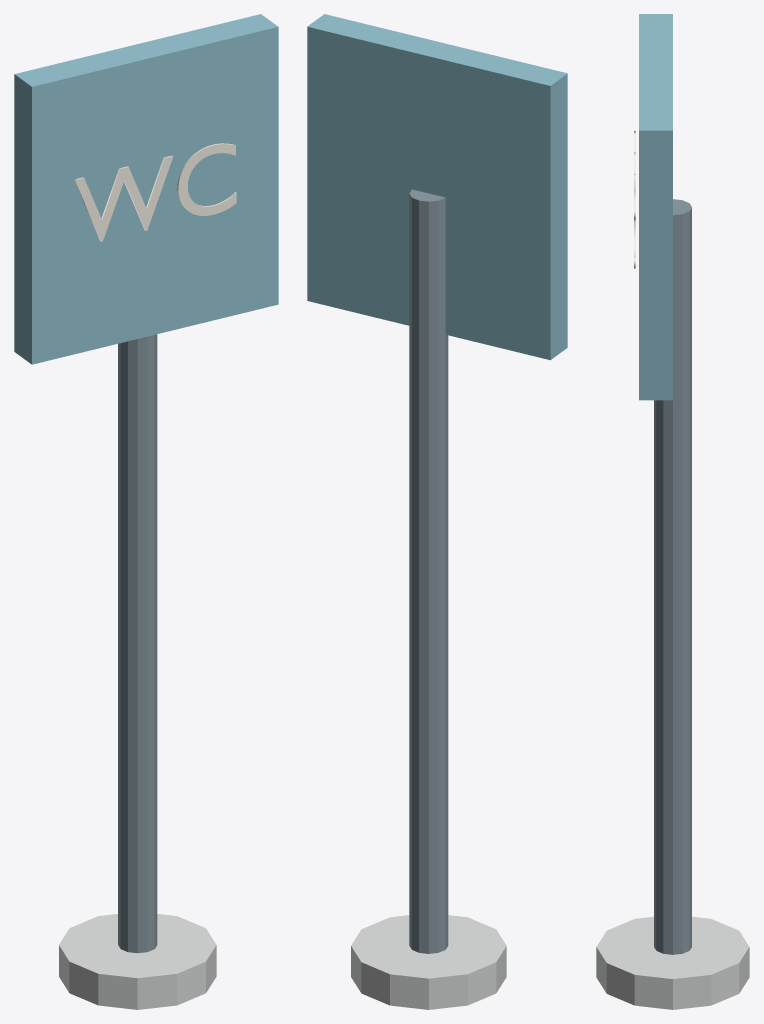
The model's file is toilet.glb.
The picture shows the model from 3 angles, left to right: view 1: azimuth 30°, elevation 25°; view 2: azimuth 150°, elevation 25°; view 3: azimuth 270°, elevation 25°; orthographic projection. The views are drawn at different scales.
Parts seen in each view (by area): view 1: toilet_002, toilet_000, toilet_001, toilet_003; view 2: toilet_002, toilet_000, toilet_001; view 3: toilet_000, toilet_002, toilet_001.
Boxes of the visible parts, x1,y1,x2,y2 form: toilet_002: (14,14,278,364); toilet_000: (118,334,157,953); toilet_001: (59,914,216,1009); toilet_003: (74,143,236,241); toilet_002: (307,14,567,360); toilet_000: (409,189,448,953); toilet_001: (351,915,506,1009); toilet_000: (654,199,691,954); toilet_002: (639,14,672,400); toilet_001: (596,916,749,1009).
Bounding box in the file's own units: 0.65 × 2.35 × 0.36.
